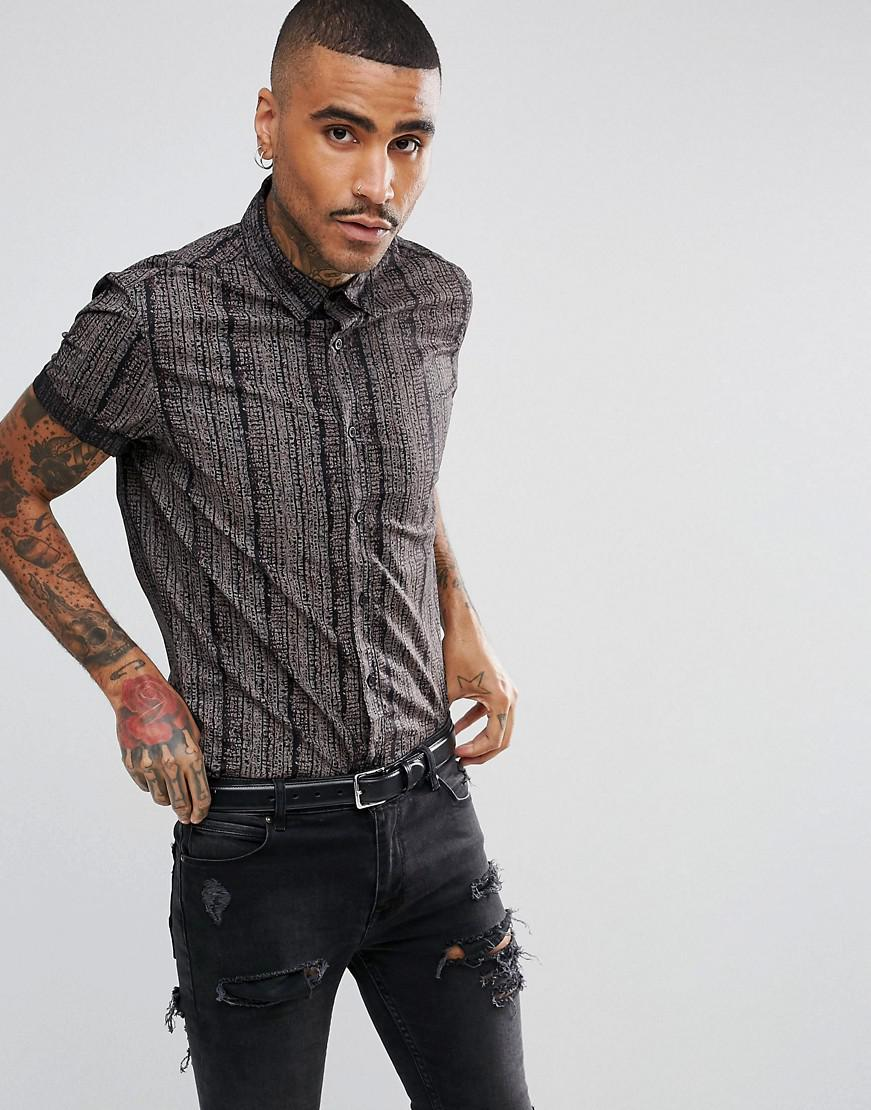teeshirt: (37, 232, 481, 773)
